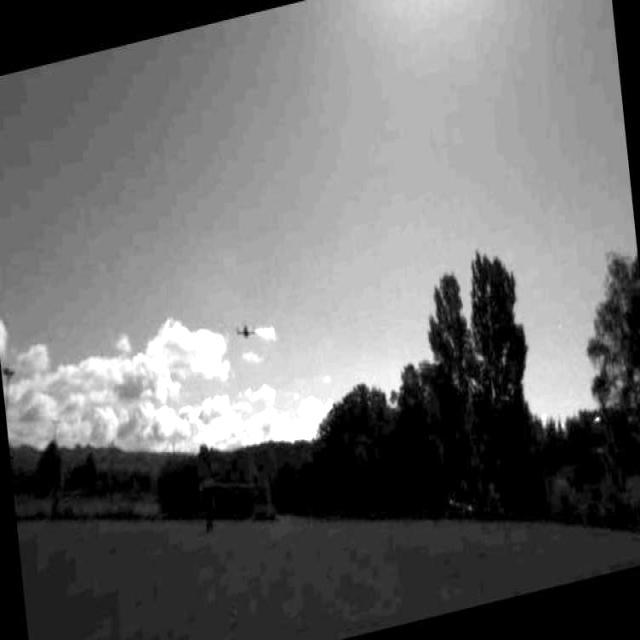drone: (230, 309, 262, 348)
